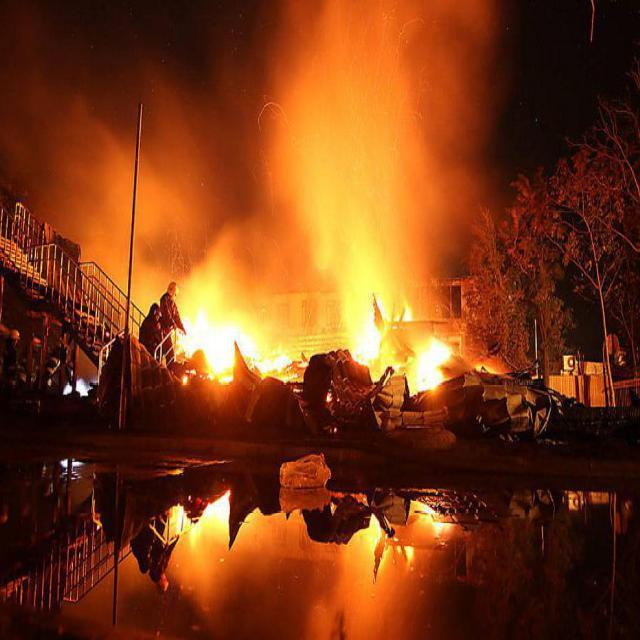Fire: (168, 304, 298, 380), (348, 301, 407, 366), (408, 336, 461, 392), (474, 354, 507, 380)
